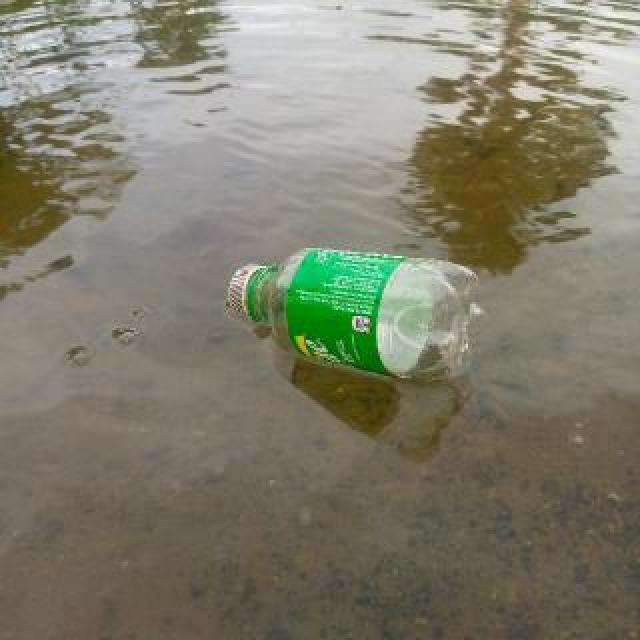Bottle: (222, 237, 488, 388)
